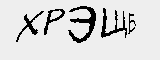Б: (127, 12, 138, 36)
Р: (42, 6, 64, 41)
Х: (9, 10, 43, 44)
Щ: (101, 7, 129, 38)
Э: (66, 4, 97, 44)
